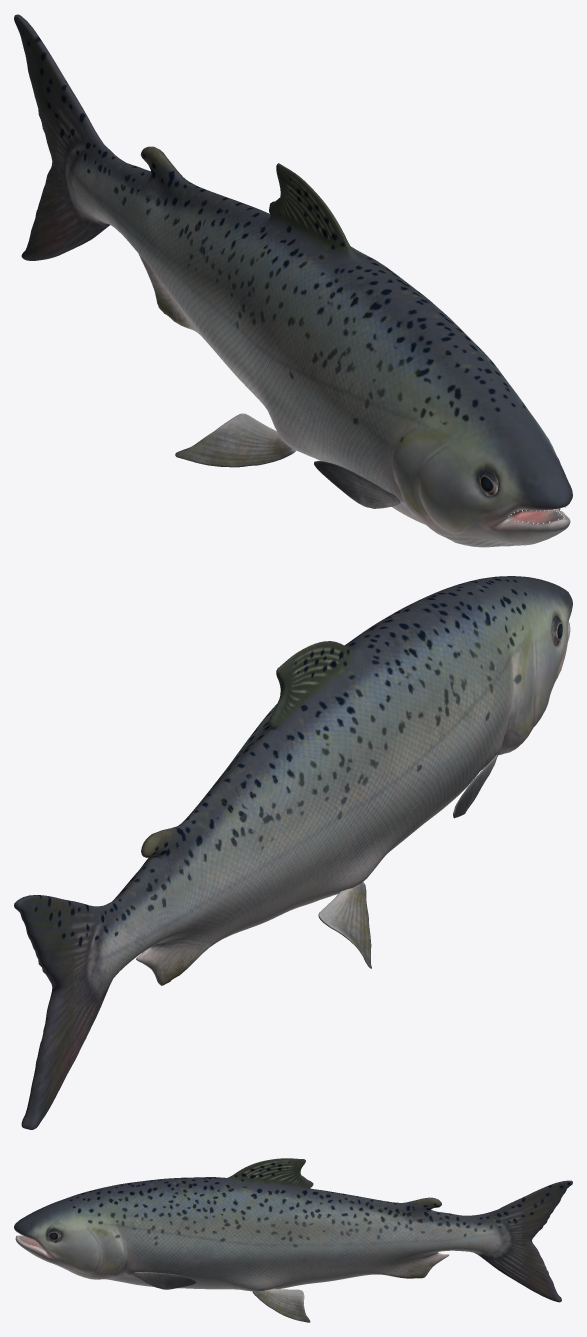
The model's file is fish.glb.
The picture shows the model from 3 angles, top to bottom: view 1: azimuth 30°, elevation 25°; view 2: azimuth 150°, elevation 25°; view 3: azimuth 270°, elevation 25°; orthographic projection. The views are drawn at different scales.
Visible parts, largest first — view 1: fish.1; view 2: fish.1; view 3: fish.1.
Part boxes in pixels (x1=…): fish.1: x1=14, y1=14, x2=572, y2=547; fish.1: x1=14, y1=576, x2=572, y2=1129; fish.1: x1=14, y1=1158, x2=572, y2=1322.
Bounding box in the file's own units: 0.0122 × 0.0168 × 0.0594.
1 material, 1 textured.
